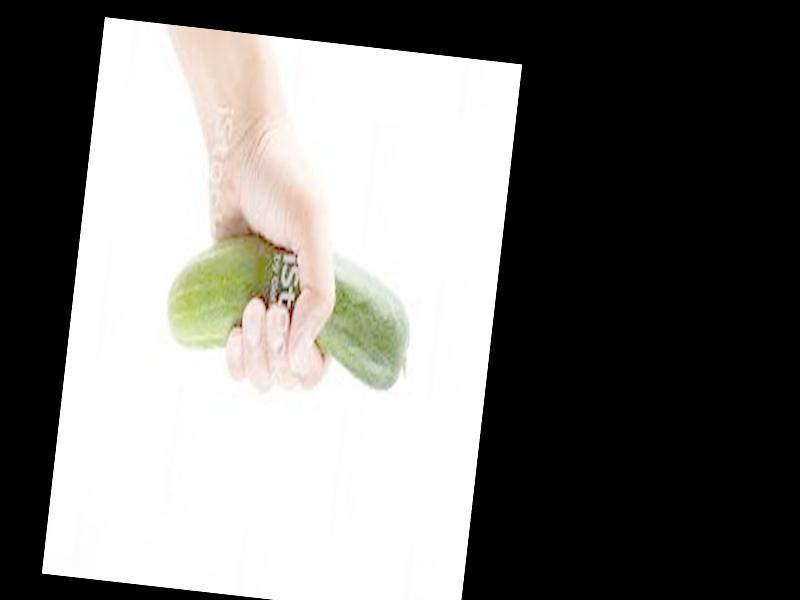Cucumber: (161, 225, 418, 396)
